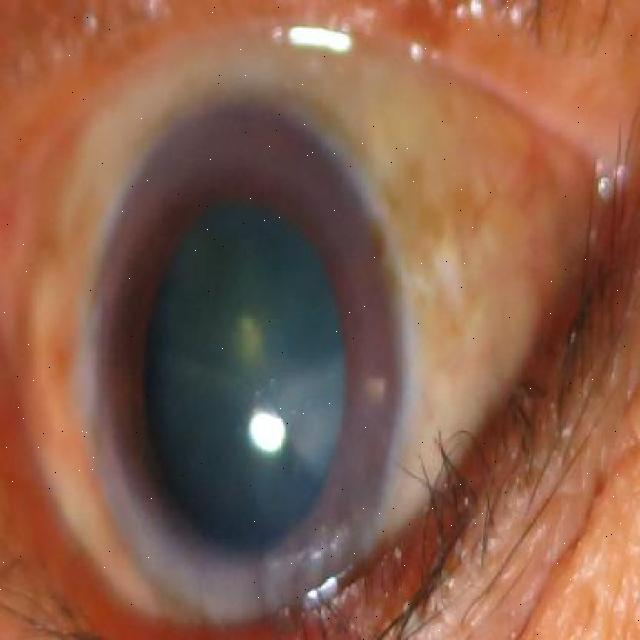Cataract: (70, 97, 402, 621)
